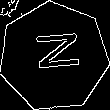N_W: (27, 35, 81, 79)
